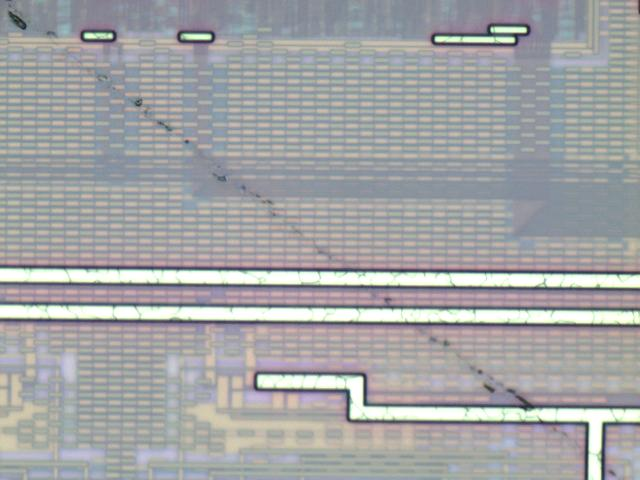SCRATCH: (1, 1, 628, 480)
